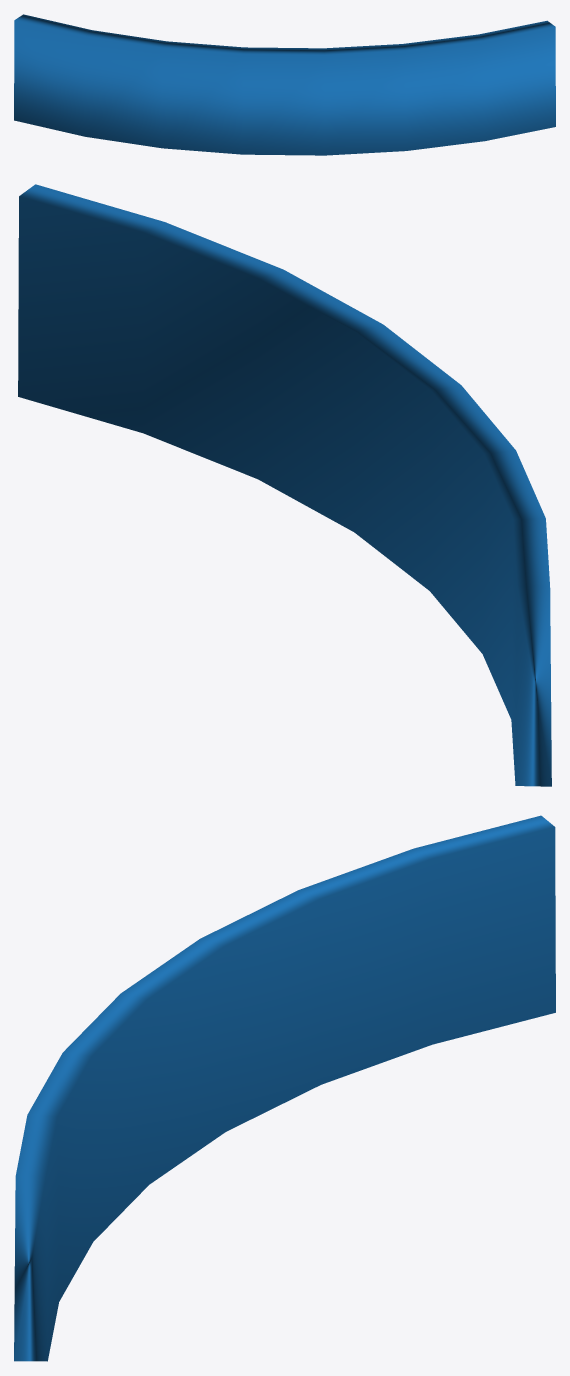
The model's file is Edge_Turn_90_04.fbx.
3 renders of one model, top to bottom at view 1: azimuth 30°, elevation 25°; view 2: azimuth 150°, elevation 25°; view 3: azimuth 270°, elevation 25°, orthographic. The views are drawn at different scales.
Visible parts, largest first — view 1: Edge_Turn_90_04; view 2: Edge_Turn_90_04; view 3: Edge_Turn_90_04.
Boxes of the visible parts, x1,y1,x2,y2 form: Edge_Turn_90_04: [14, 14, 555, 155]; Edge_Turn_90_04: [18, 184, 551, 786]; Edge_Turn_90_04: [14, 815, 555, 1361].
Size of the model in its own units: 12.15 by 2.9 by 7.7.
